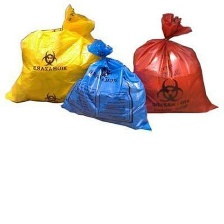plastic_bag: (2, 3, 114, 109), (128, 11, 223, 122), (60, 37, 159, 135)
